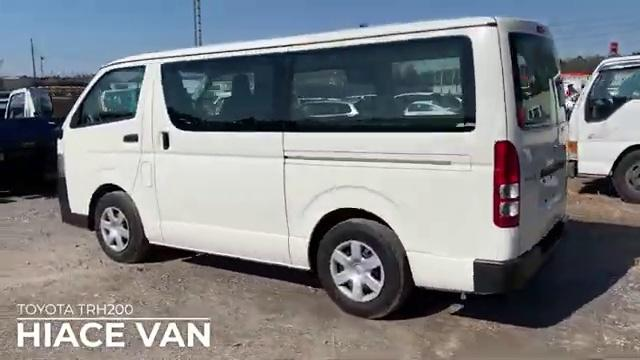Van: (58, 19, 571, 316)
